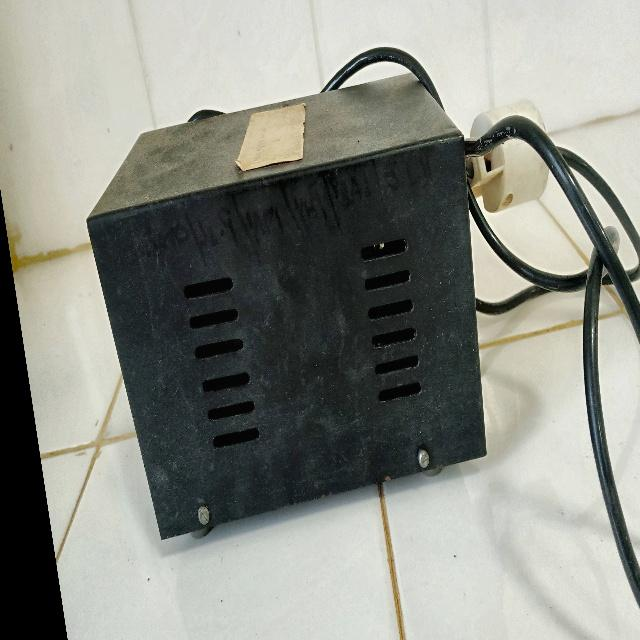Sodium Lamp Power Supply: (66, 29, 520, 584)
